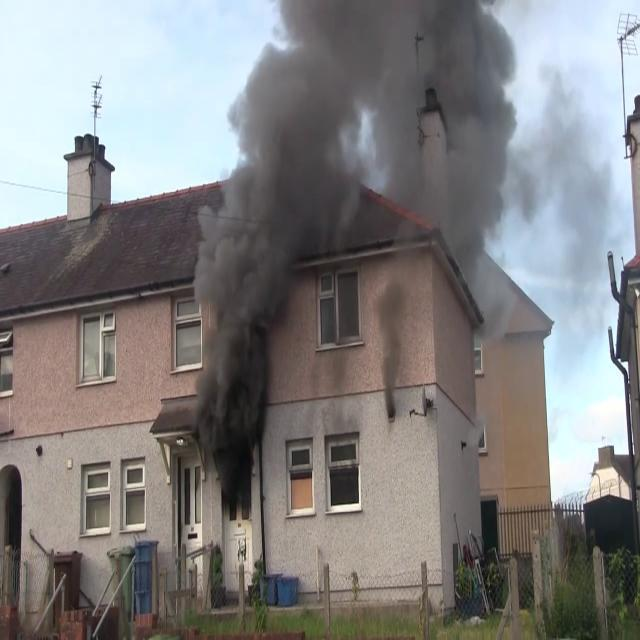Smoke: (186, 0, 371, 453), (364, 0, 522, 360), (521, 54, 613, 296)
